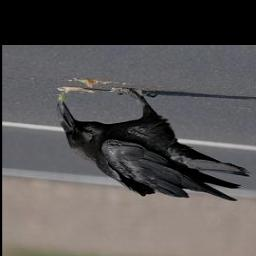Crow: (56, 89, 251, 202)
